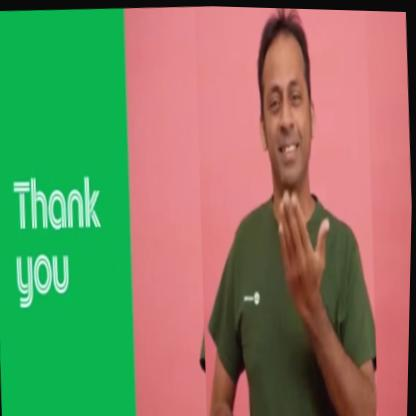ThankYou: (187, 5, 387, 416)
